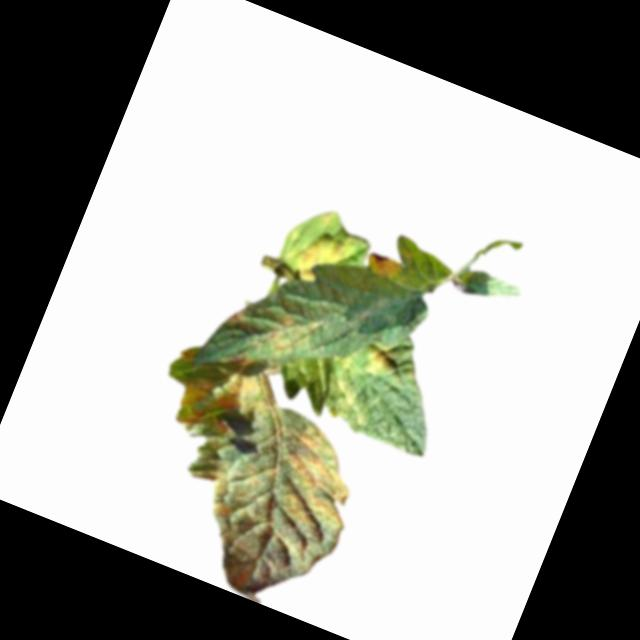Leaf_Mold: (117, 364, 380, 621), (255, 303, 319, 366), (288, 227, 350, 292), (320, 372, 366, 423), (359, 340, 399, 382), (362, 249, 402, 283), (221, 301, 254, 335)
